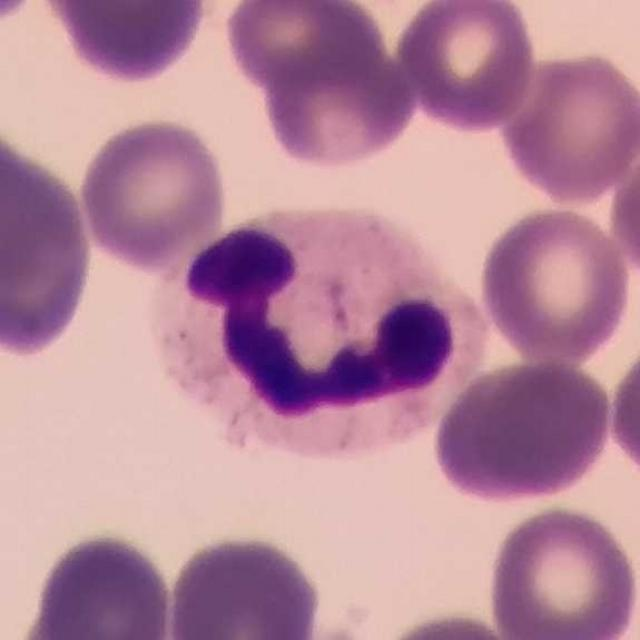Neutrophil: (147, 189, 502, 469)
RBC: (427, 354, 618, 506), (248, 15, 420, 174), (476, 200, 634, 367), (75, 114, 232, 270), (494, 46, 640, 206), (0, 133, 98, 363), (483, 502, 640, 640), (391, 0, 541, 135), (9, 525, 180, 640), (161, 527, 326, 640), (218, 0, 389, 96), (37, 0, 216, 87), (0, 118, 38, 286), (604, 326, 640, 491), (369, 606, 539, 640), (605, 133, 640, 286)
